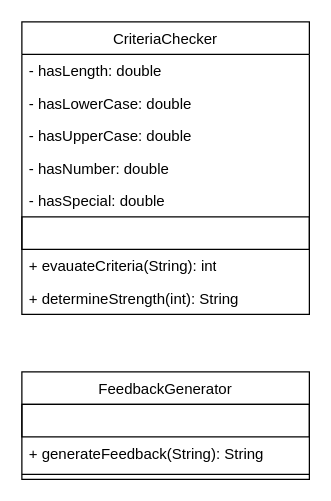
Some shapes in this 331 by 501 pixel diagram are drawn without their labels. Here are the shapes that lost their labels. From the top down, the centre of each, then its label:
the point at 165,232: Space
the point at 165,420: No instance variables
